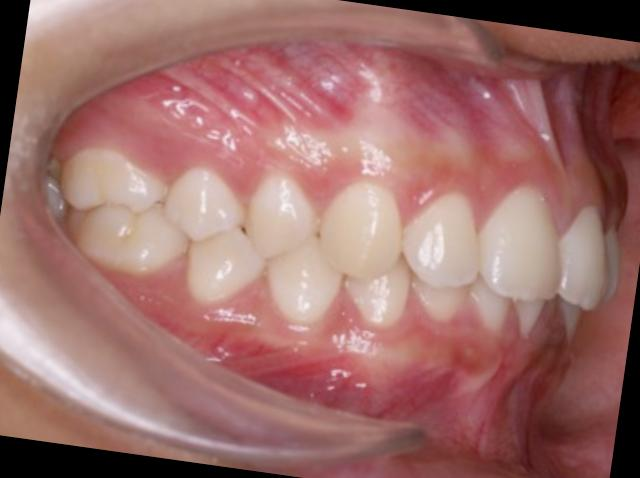canine class II 1/4: (259, 165, 427, 344)
molar class I: (46, 128, 200, 290)
